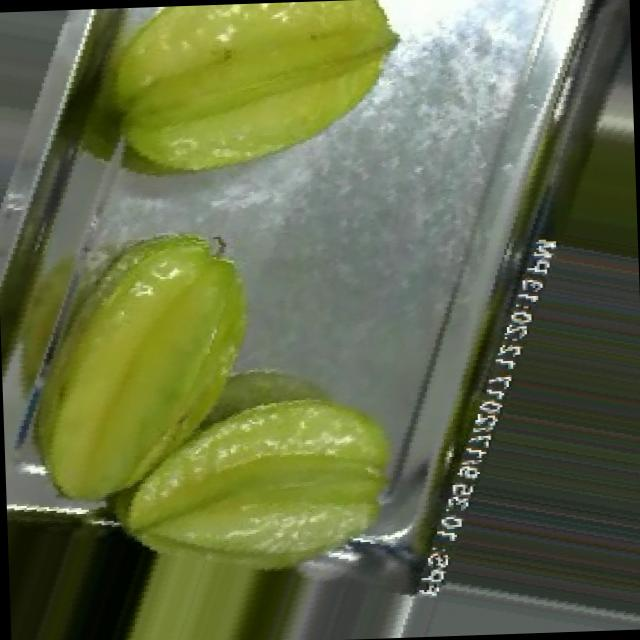fruit: (79, 318, 438, 640), (0, 186, 325, 535), (73, 0, 433, 240), (390, 336, 640, 635)
